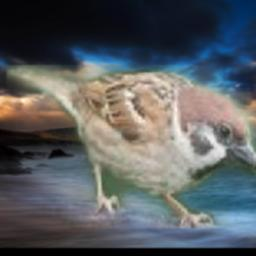Sparrow: (7, 65, 256, 228)
